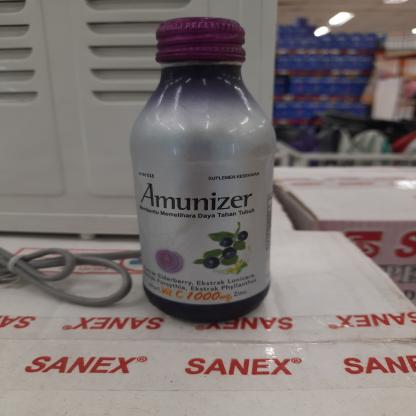keyboard: (129, 14, 272, 322)
